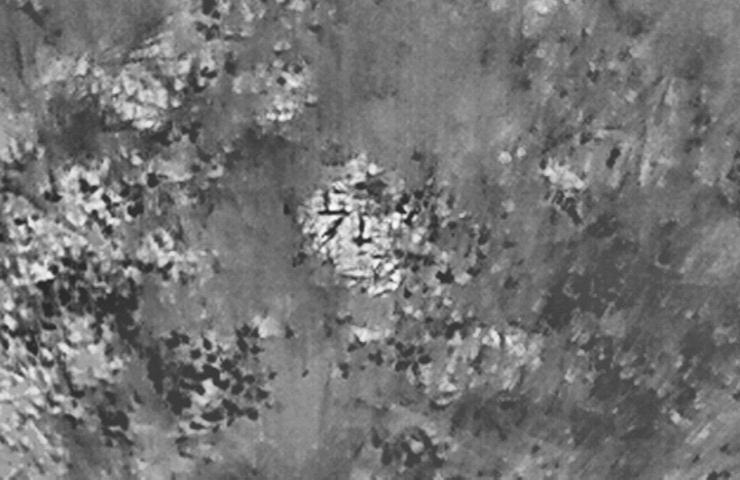landmines: (304, 154, 434, 298)
